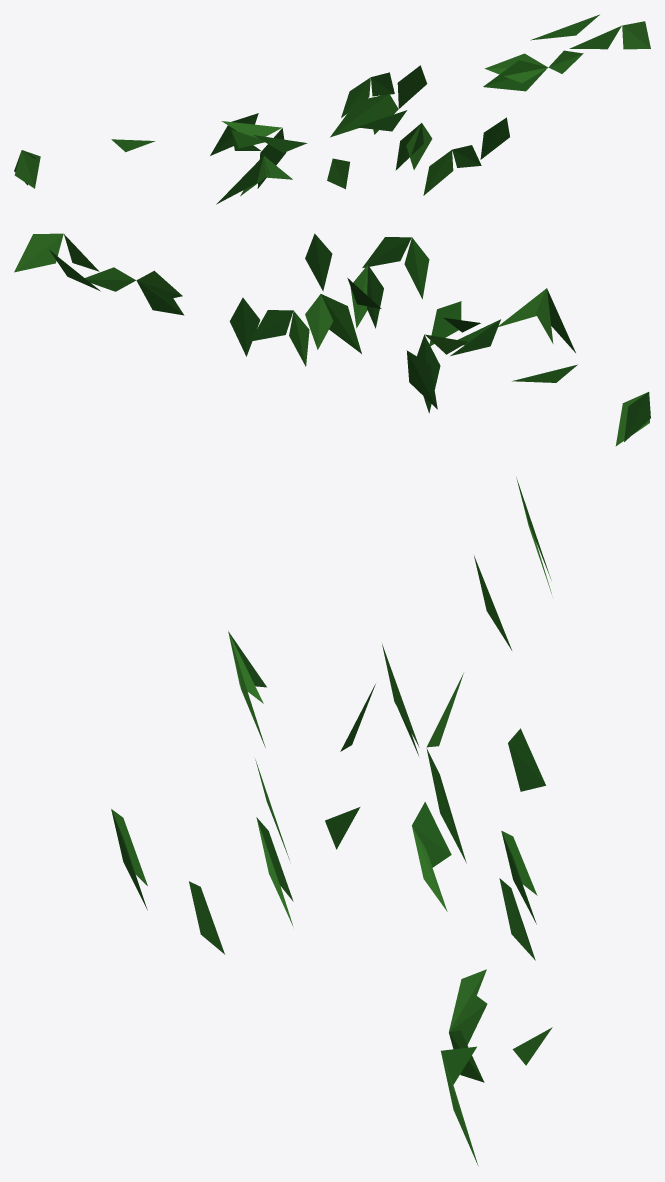
3 views of the same model, one above another, from view 1: azimuth 30°, elevation 25°; view 2: azimuth 150°, elevation 25°; view 3: azimuth 270°, elevation 25° (orthographic). The views are drawn at different scales.
Visible parts, largest first — view 1: r9c4_l11; view 2: r9c4_l11; view 3: r9c4_l11.
Boxes of the visible parts, <box> form: r9c4_l11: <box>14,14,650,204</box>; r9c4_l11: <box>14,233,650,446</box>; r9c4_l11: <box>111,477,552,1165</box>.
Bounding box in the file's own units: 1.69 × 0.234 × 0.5188.
